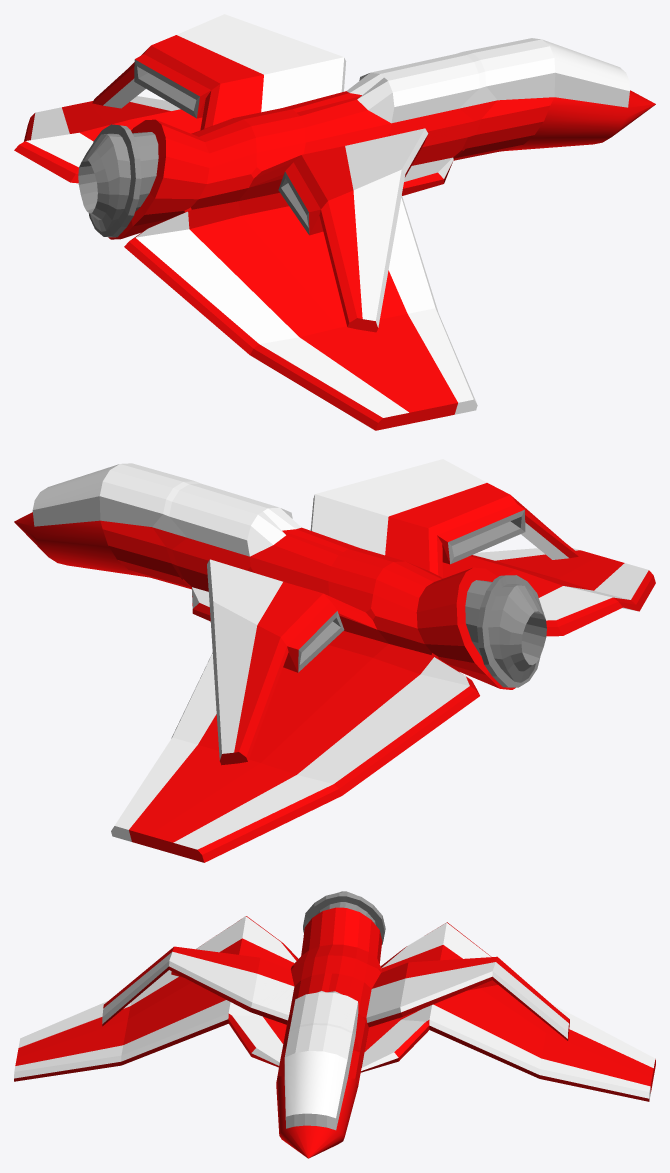
File: R_Spaceship_v1.FBX
3 views of the same model, one above another, from view 1: azimuth 30°, elevation 25°; view 2: azimuth 150°, elevation 25°; view 3: azimuth 270°, elevation 25° (orthographic). The views are drawn at different scales.
Visible parts, largest first — view 1: Cylinder002; view 2: Cylinder002; view 3: Cylinder002.
Part boxes in pixels (<box>): Cylinder002: <box>14,14,655,430</box>; Cylinder002: <box>14,459,655,862</box>; Cylinder002: <box>14,891,655,1158</box>.
Bounding box in the file's own units: 271 × 75.66 × 332.
